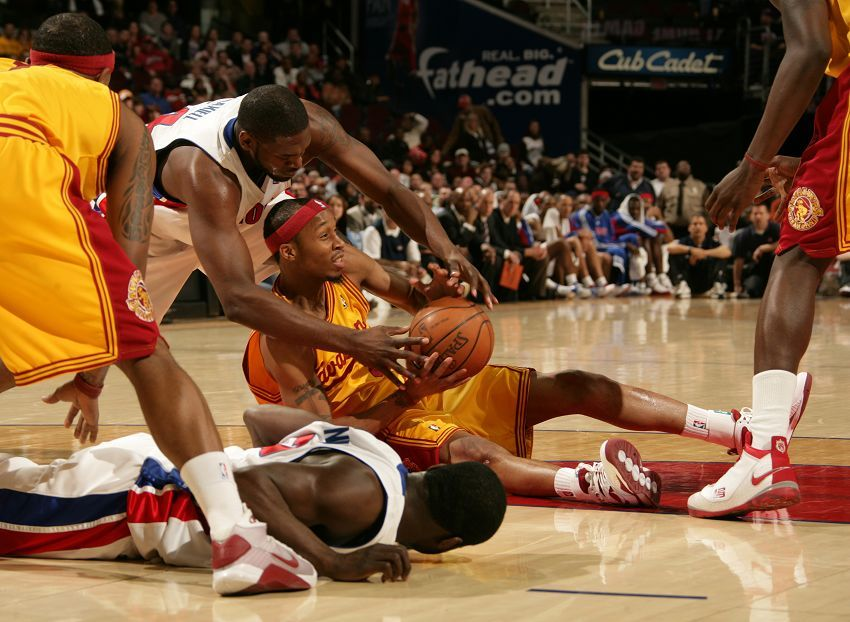10+: (1, 1, 850, 583)
down: (242, 200, 816, 505), (1, 397, 509, 585)
